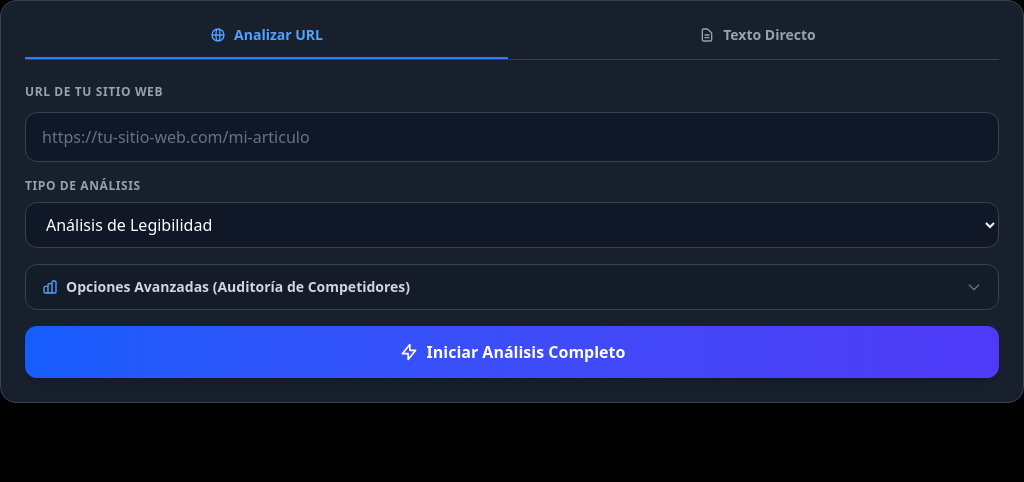
Test: HeroForm — validación de URL y labels › rechaza una URL sin protocolo http/https
In the field labelled "URL de tu sitio web": (512, 137) [25,112,999,162], type "ftp://x.com"
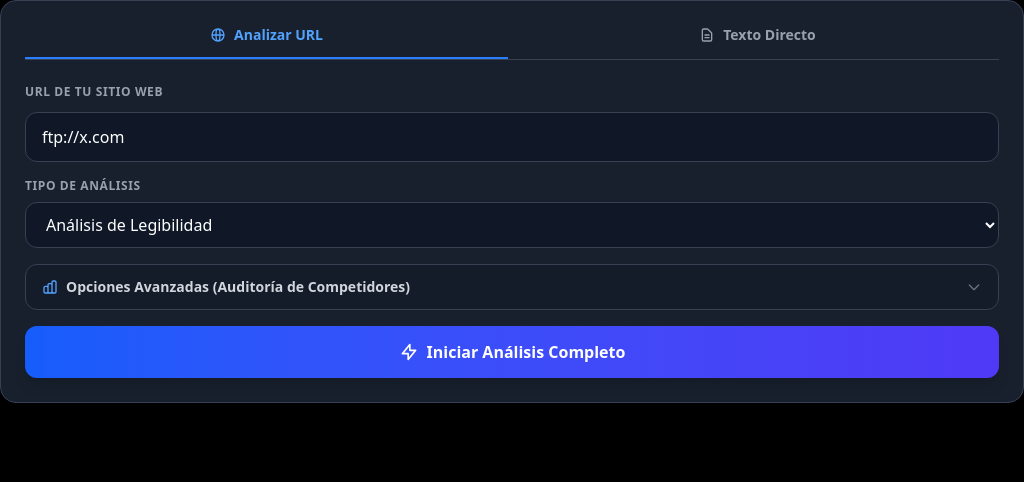
Click the button "Iniciar Análisis Completo": (512, 352) [25,326,999,378]
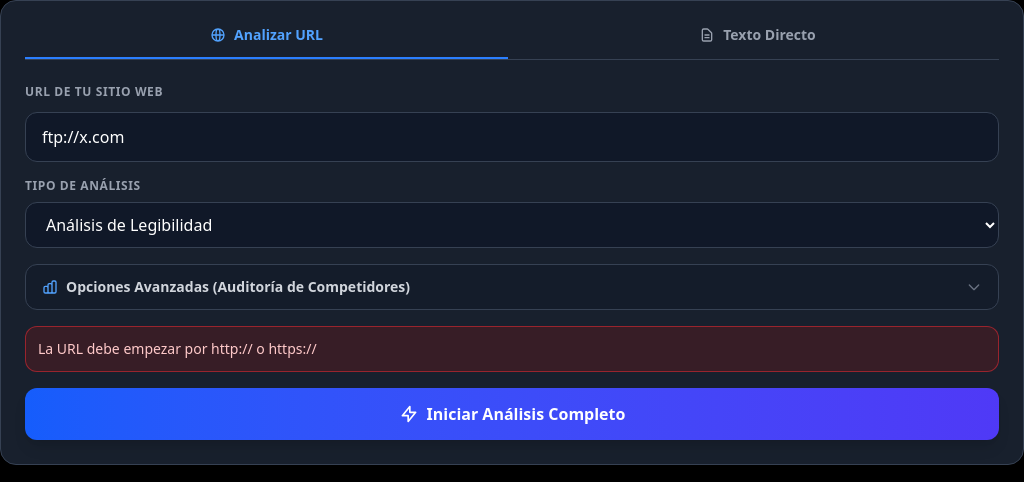
Expected: the text "La URL debe empezar por http:// o https://" is shown, [25,326,999,372]
